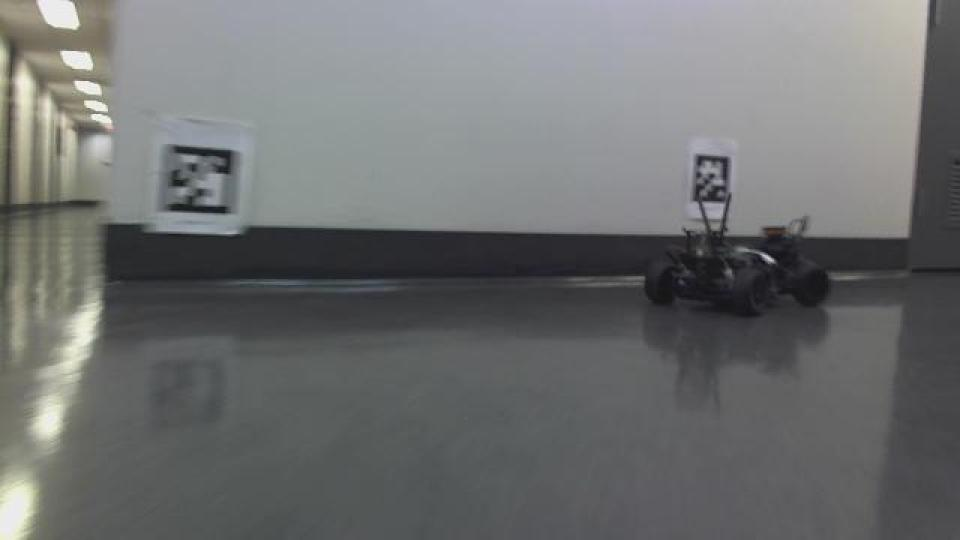car: (639, 190, 831, 320)
